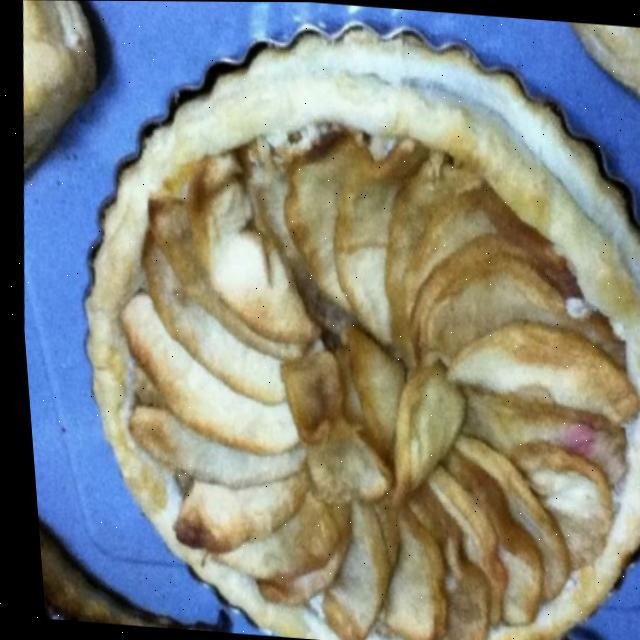炸货点心: (6, 6, 640, 640)
蛋糕甜品: (6, 6, 640, 640)
